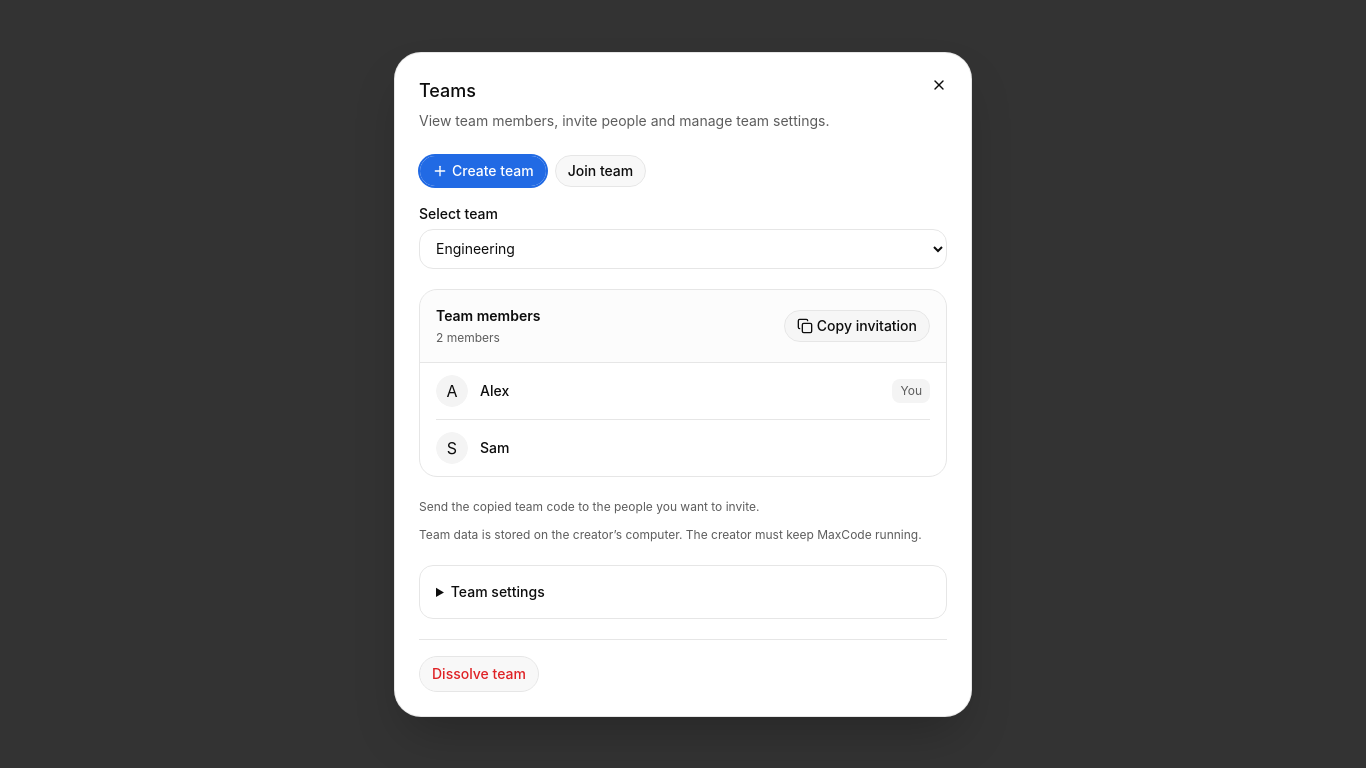
Test case: MaxCode team management › separates create and join forms and defers storage until team settings
This screenshot has width=1366, height=768.
Click the button "Create team": (483, 170) [419,154,547,186]
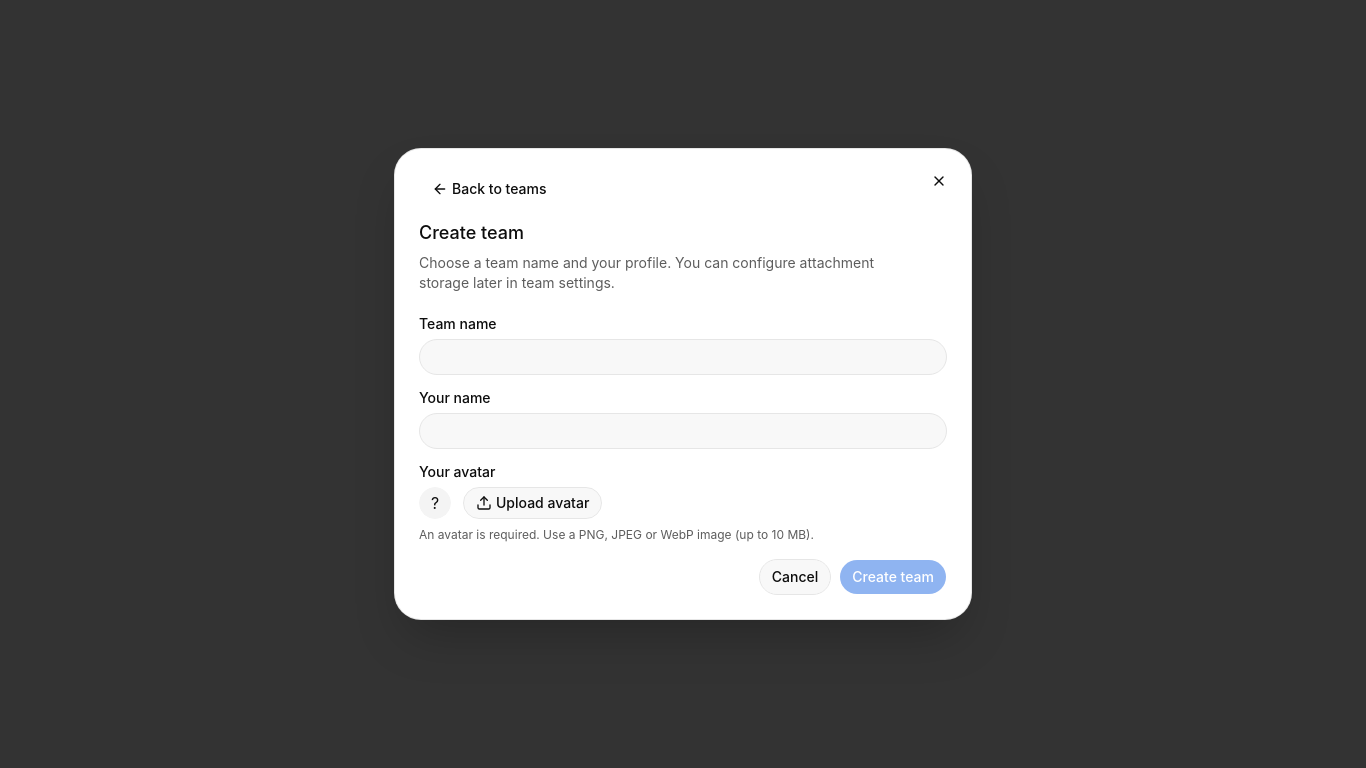
Check: the field labelled "Team name" is shown, box [419,339,947,375]
Check: the field labelled "Your name" is shown, box [419,413,947,449]
Check: the list is gone
Click the button "Back to teams": (489, 189) [419,173,560,205]
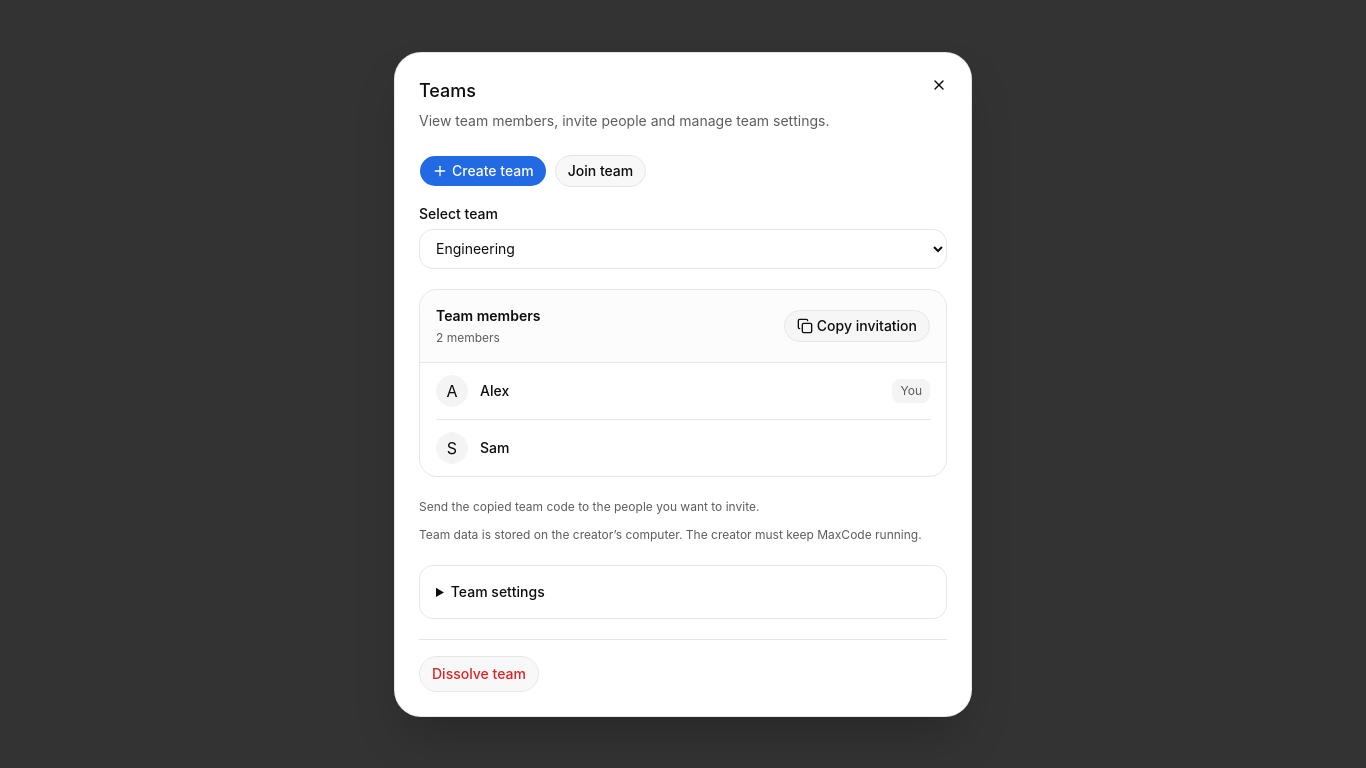
Click the button "Join team": (600, 170) [555,154,646,186]
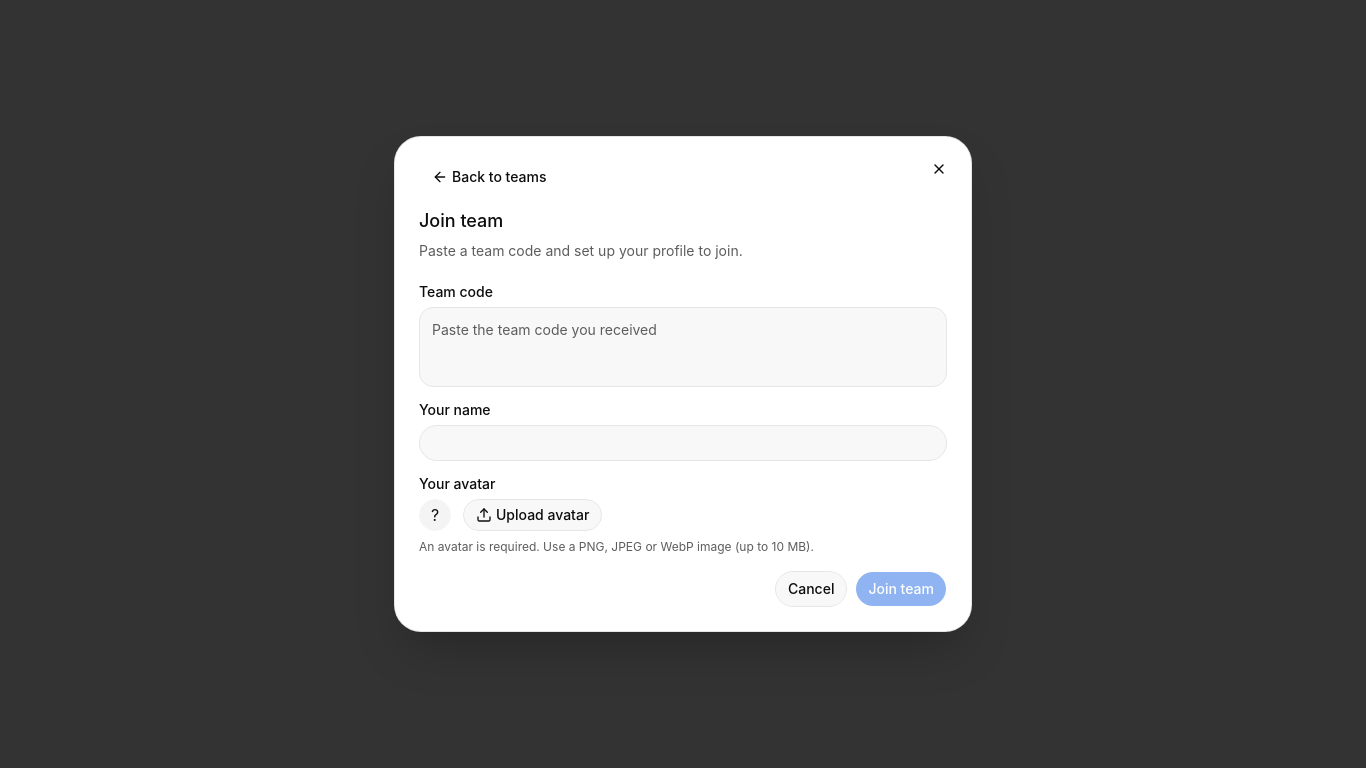
Check: the text labelled "team name" is not shown
Check: the text box labelled "Team code" is shown, box [419,307,947,387]
